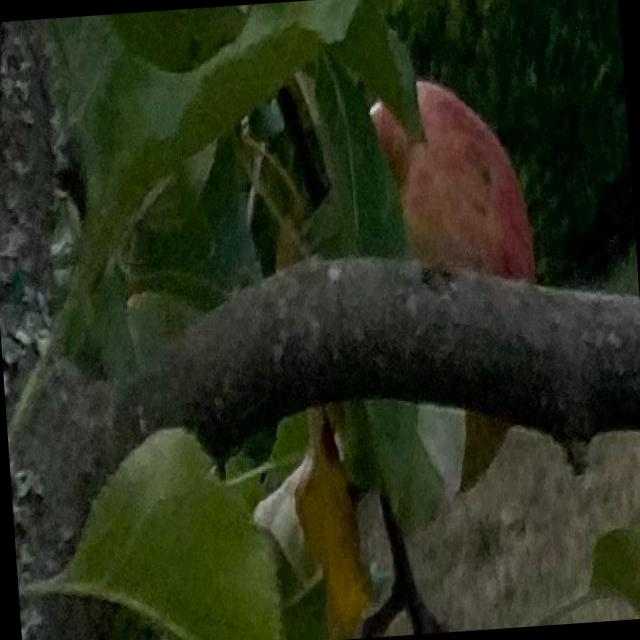Apples: (366, 73, 546, 444)
